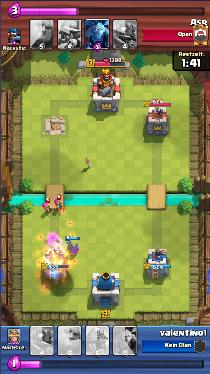ally_musketeer: (66, 239, 79, 254)
enemy_archer: (42, 203, 53, 212), (55, 198, 61, 212)
enemy_fireball: (39, 246, 71, 279)
